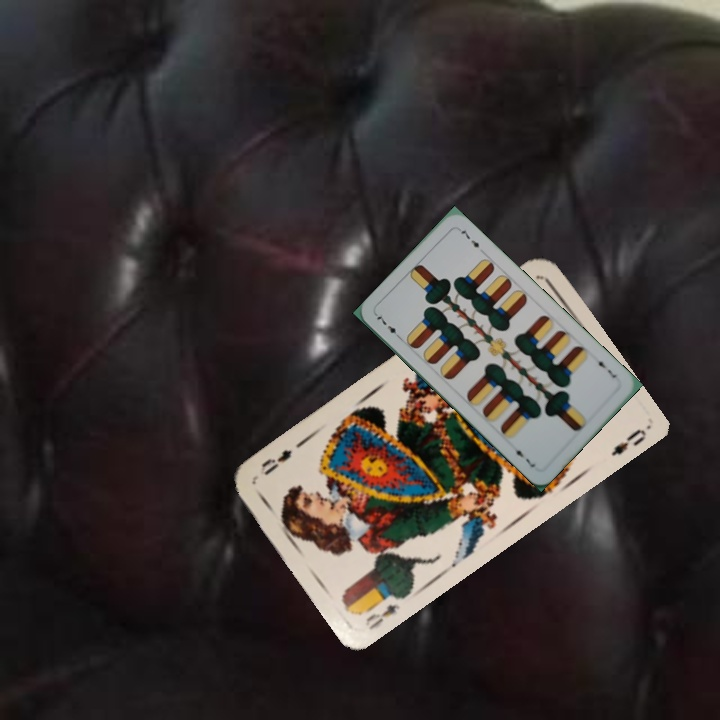E7: (372, 310, 404, 342), (592, 353, 619, 381)
EO: (361, 600, 403, 633)
